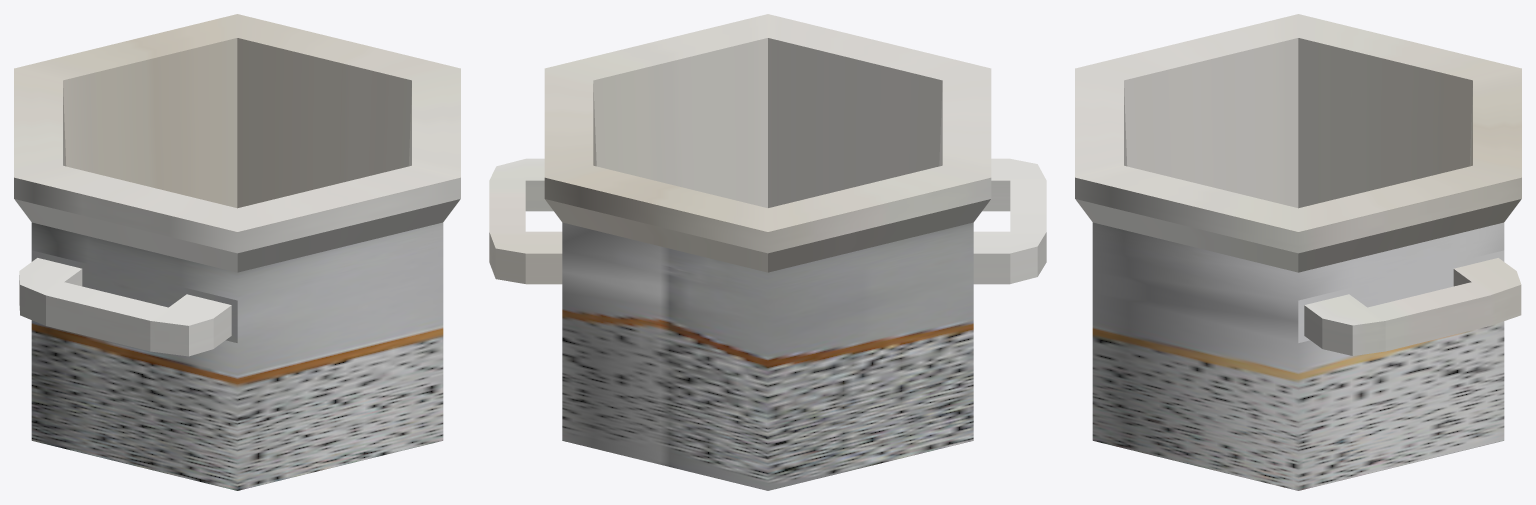
The model's file is pot_kitchen.FBX.
3 renders of one model, left to right at view 1: azimuth 30°, elevation 25°; view 2: azimuth 150°, elevation 25°; view 3: azimuth 270°, elevation 25°, orthographic.
Parts seen in each view (by area): view 1: Object002, Cylinder001; view 2: Object002, Cylinder001; view 3: Object002, Cylinder001.
Part boxes in pixels (<box>): Object002: <box>14,14,460,356</box>; Cylinder001: <box>31,222,443,490</box>; Object002: <box>489,14,1046,284</box>; Cylinder001: <box>562,222,973,490</box>; Object002: <box>1075,14,1521,355</box>; Cylinder001: <box>1092,222,1504,490</box>.
Size of the model in its own units: 84.66 by 48.93 by 67.14.
Materials: 3 (3 with a texture image).
